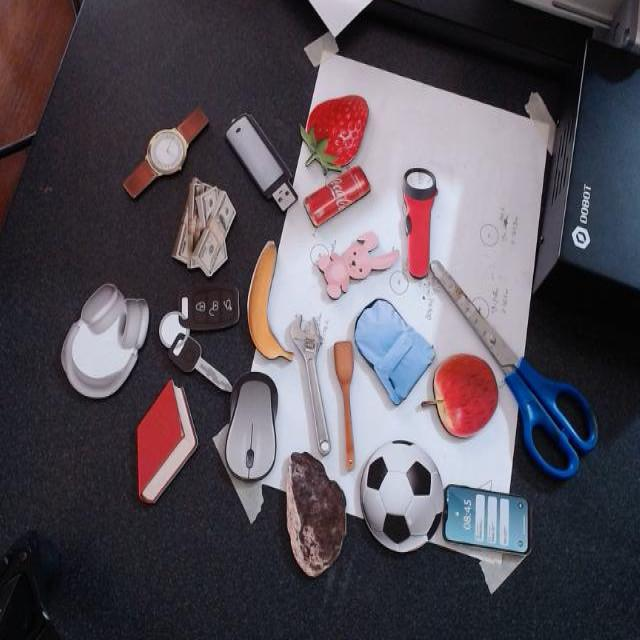Other Objects: (429, 259, 598, 479), (50, 263, 161, 419), (353, 431, 450, 561), (342, 288, 434, 408), (154, 275, 240, 390), (221, 106, 303, 219), (122, 105, 209, 199), (285, 449, 347, 577), (170, 175, 243, 281), (235, 240, 293, 370), (421, 353, 498, 439), (442, 483, 530, 555), (311, 229, 399, 299), (289, 312, 330, 455), (225, 372, 275, 479), (302, 164, 370, 227), (401, 167, 437, 279), (334, 340, 354, 470)
